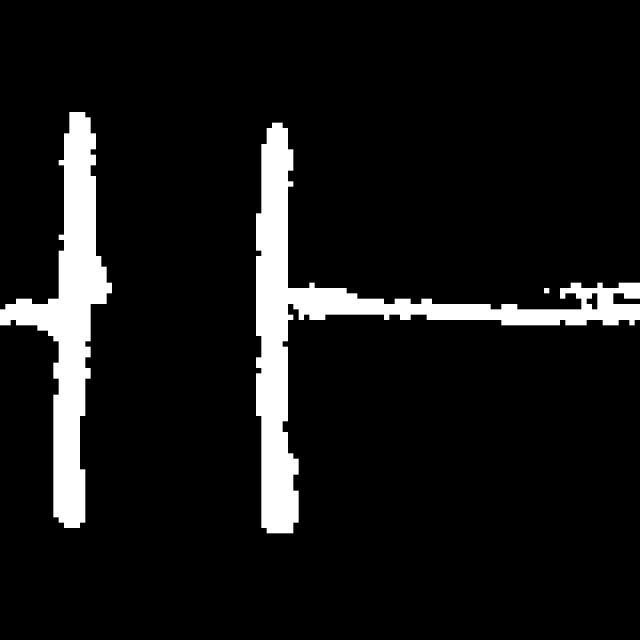capacitor: (39, 99, 311, 544)
